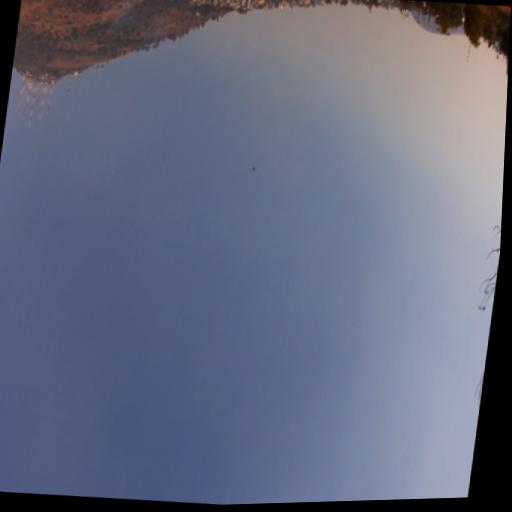drones: (250, 165, 258, 174)
